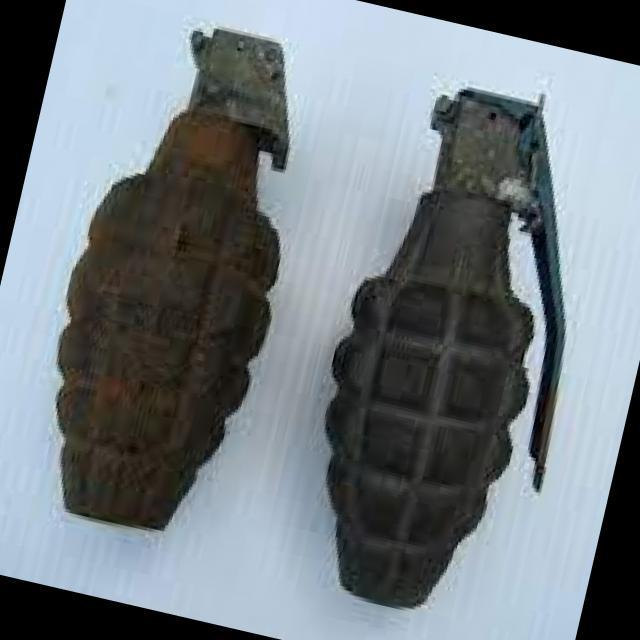grenade: (11, 0, 631, 631)
